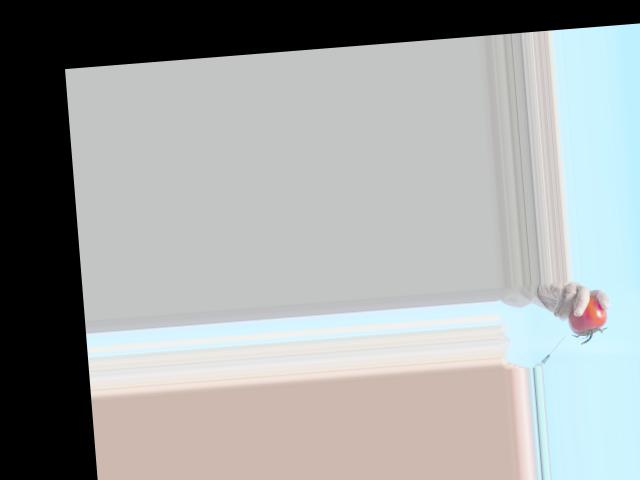tomato: (567, 294, 609, 336)
